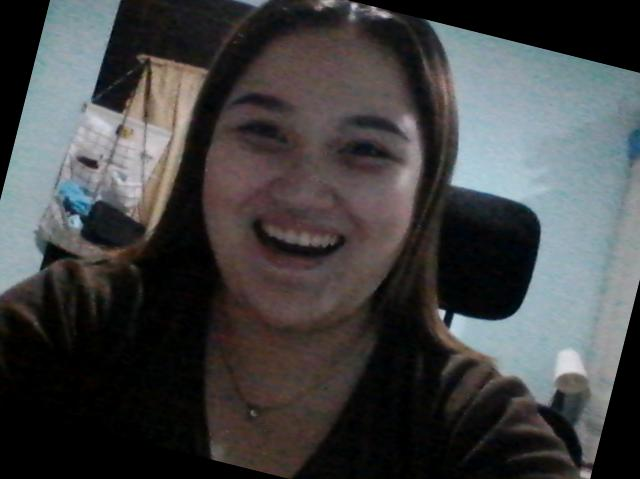senang: (169, 7, 468, 345)
